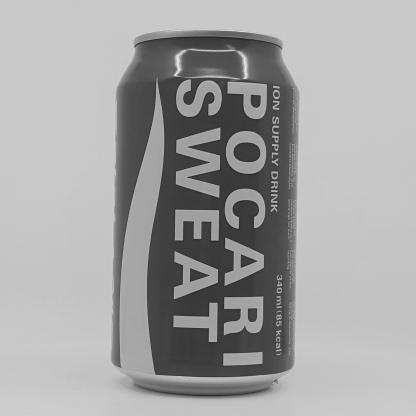alumunium_can: (104, 22, 310, 397)
